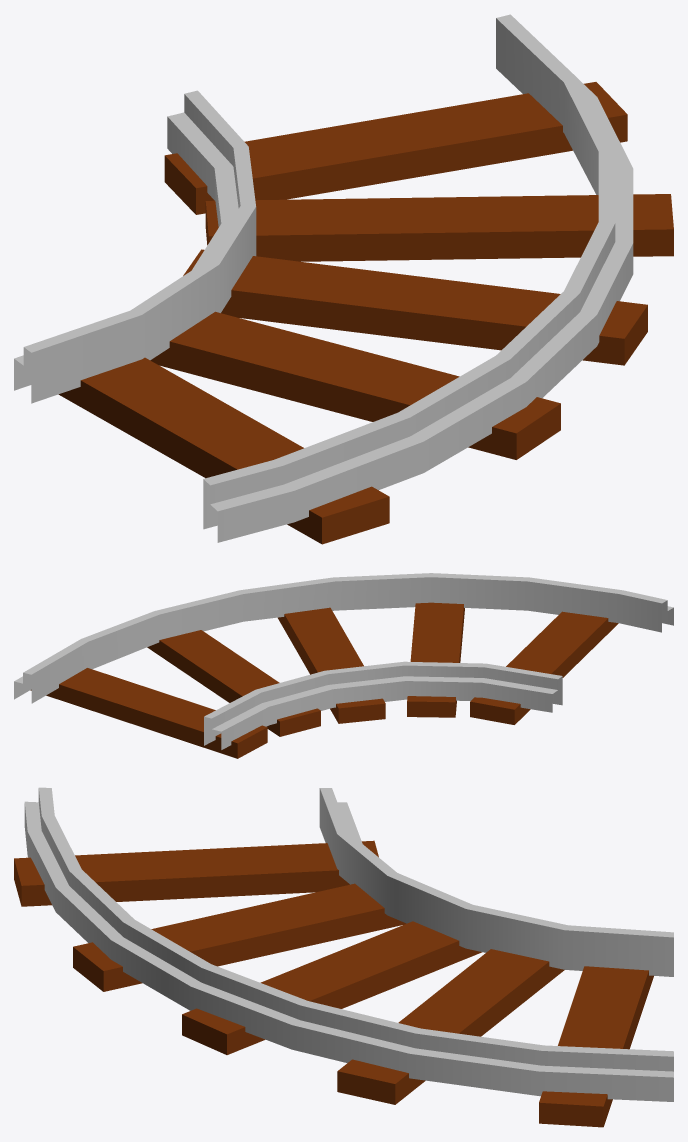
Rendered from Kurve_Schiene.fbx.
3 renders of one model, top to bottom at view 1: azimuth 30°, elevation 25°; view 2: azimuth 150°, elevation 25°; view 3: azimuth 270°, elevation 25°, orthographic. The views are drawn at different scales.
Visible parts, largest first — view 1: Kurve_Schiene; view 2: Kurve_Schiene; view 3: Kurve_Schiene.
Boxes of the visible parts, x1,y1,x2,y2 form: Kurve_Schiene: (14, 14, 673, 544); Kurve_Schiene: (14, 573, 673, 758); Kurve_Schiene: (14, 787, 673, 1127).
Size of the model in its own units: 0.6929 by 0.0629 by 0.6774.
